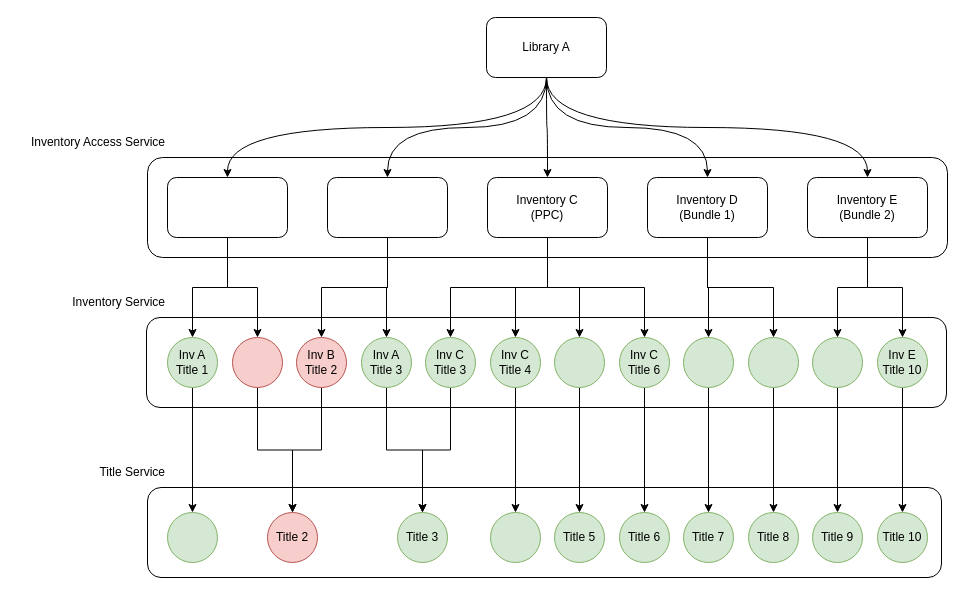
The diagram is 965 pixels wide and 595 high, and some of its shapes have lost their labels. The shapes that lost their labels are listed below. From the top down, each one's centre as x and y in pixels, then its label:
point (227, 207): Inventory A (belongs to Lib A)
point (387, 207): Inventory B (parent Library)
point (257, 362): Inv A Title 2
point (579, 362): Inv C Title 5
point (708, 362): Inv D Title 7
point (773, 362): Inv D Title 8
point (837, 362): Inv E Title 9
point (192, 537): Title 1
point (515, 537): Title 4
